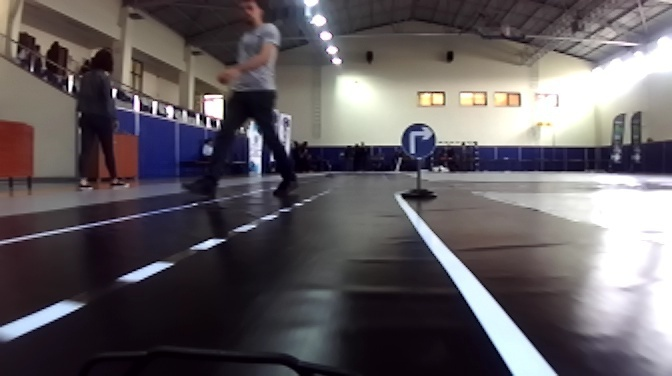saga_donus: (399, 124, 436, 159)
